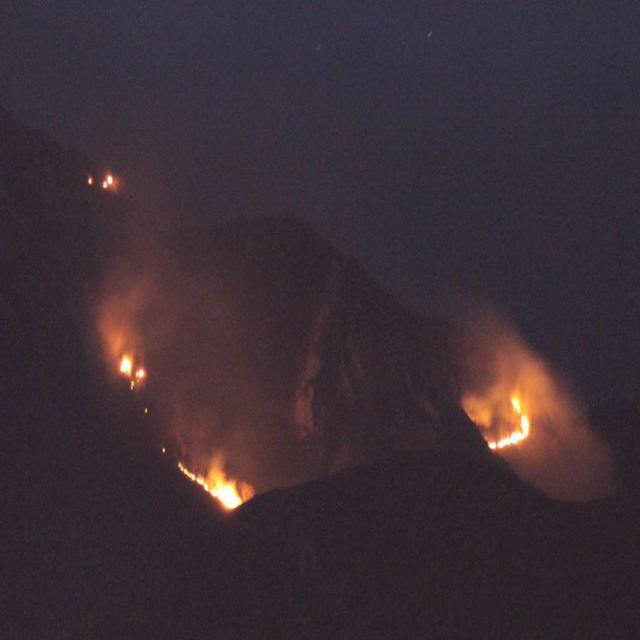Fire: (166, 449, 247, 513), (476, 391, 530, 454), (121, 351, 146, 394), (85, 170, 114, 192)
